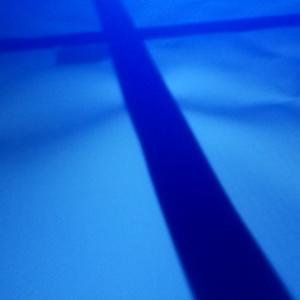bottom_left: (56, 33, 143, 65)
